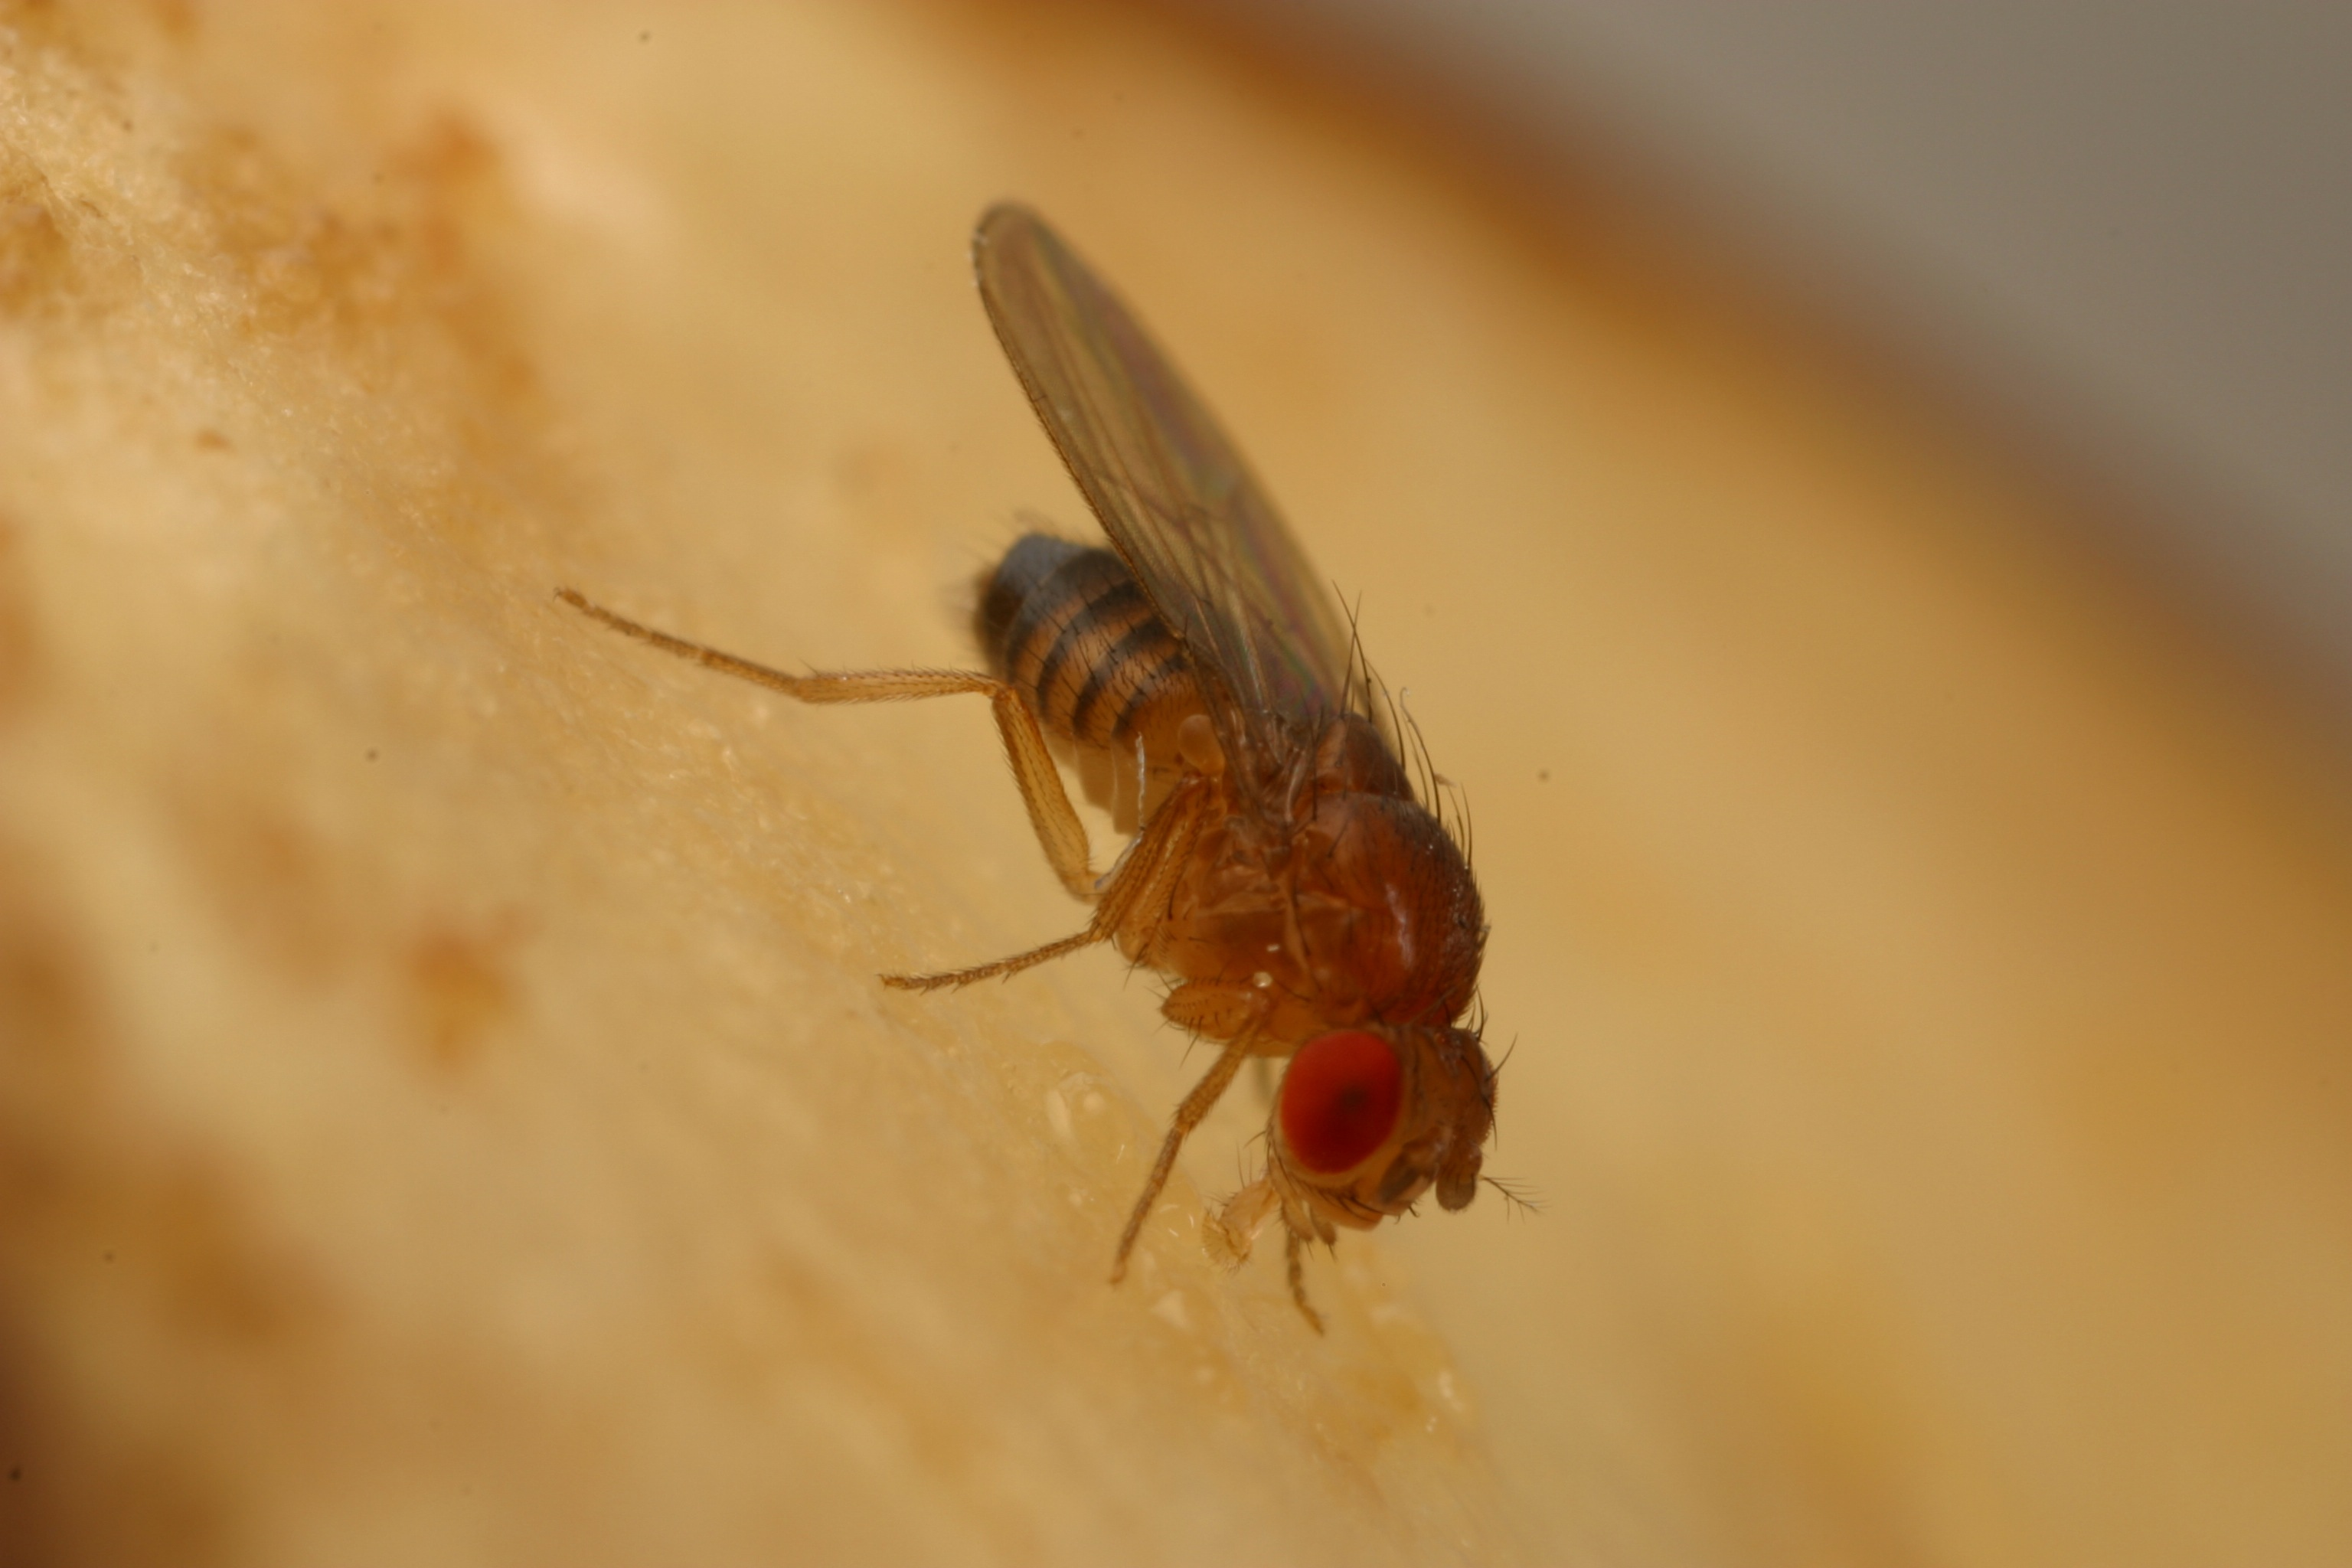Fruit fly: (737, 340, 1606, 1312)
